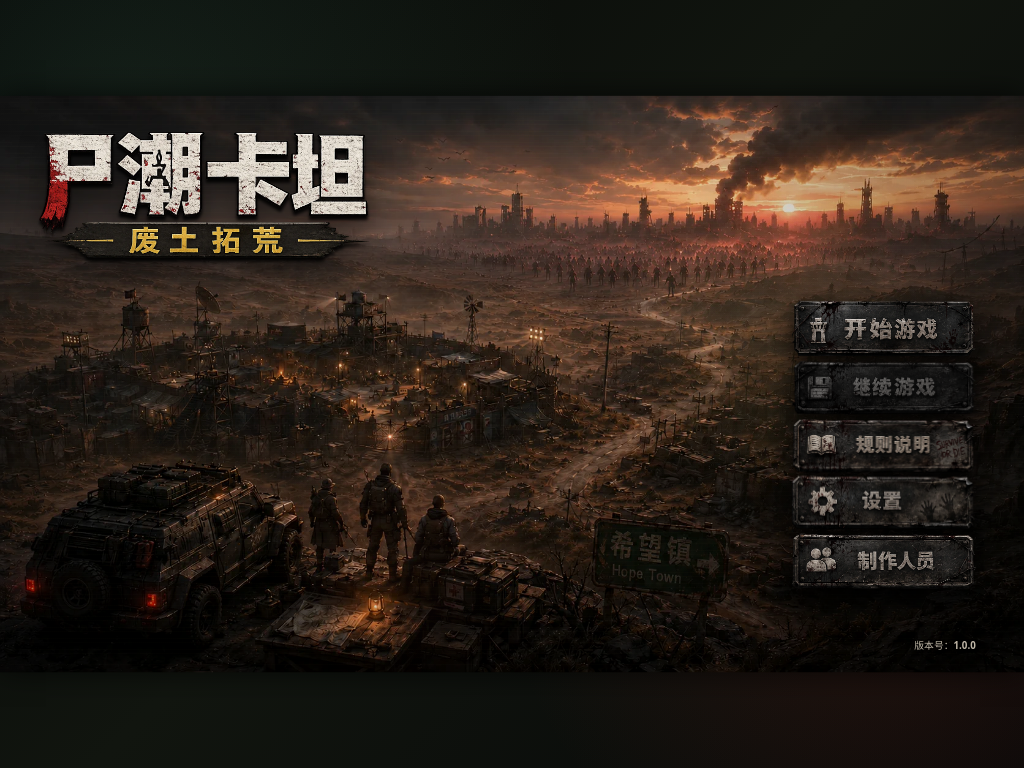
Test: StartScreen › renders settings as a dedicated audio settings console
Click the button named "设置".
click(884, 503)  # box [792,476,976,530]
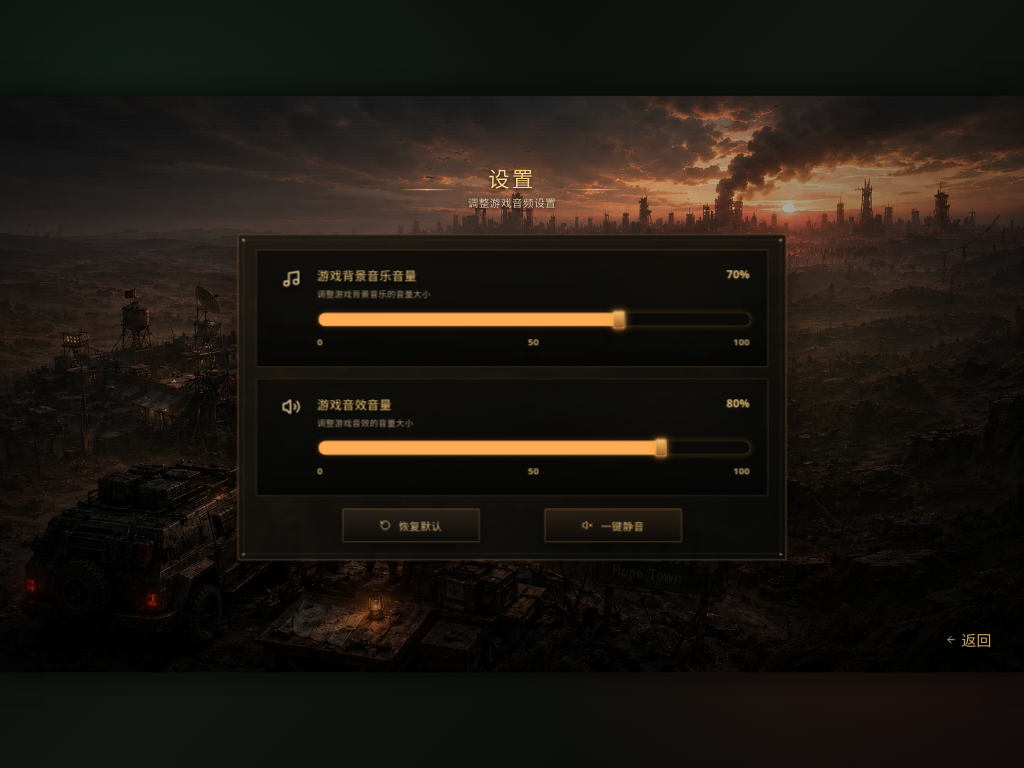
expect the heading "设置" is shown: met, box [488,168,536,190]
expect the text "调整游戏音频设置" is shown: met, box [468,195,556,210]
expect the header with class "start-settings-title" is shown: met, box [400,168,624,210]
Set the slider labelled "游戏背景音乐音量" to "45" at (514, 319), box [318,312,751,326]
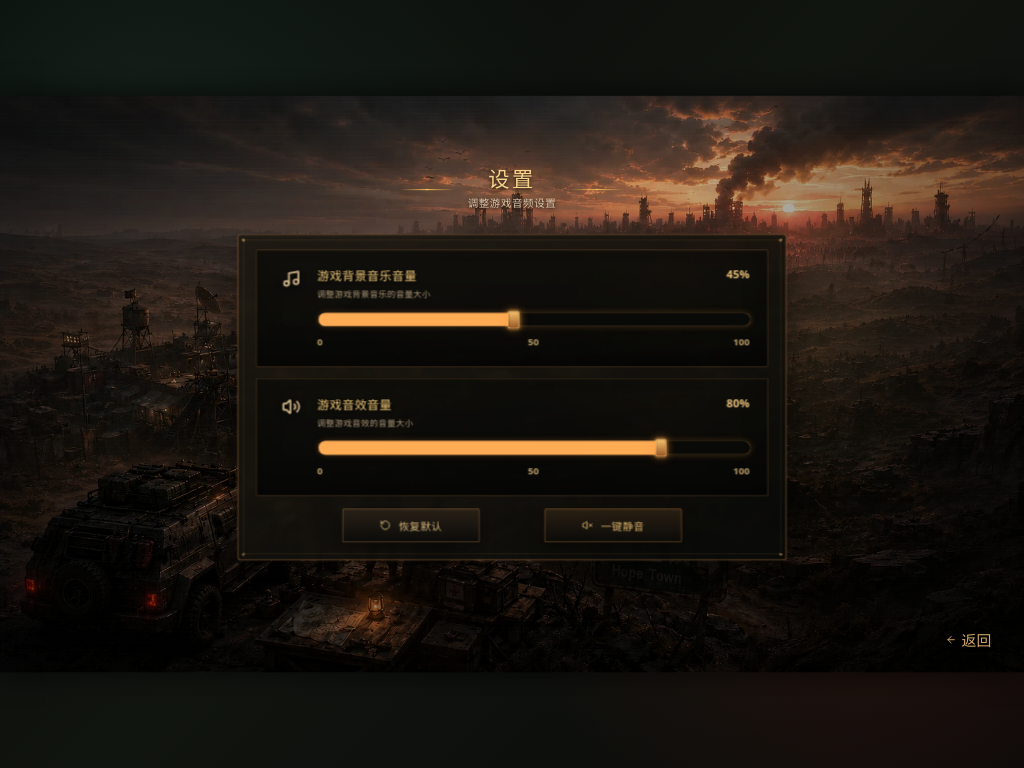
Set the slider labelled "游戏音效音量" to "35" at (472, 448), box [318,441,751,455]
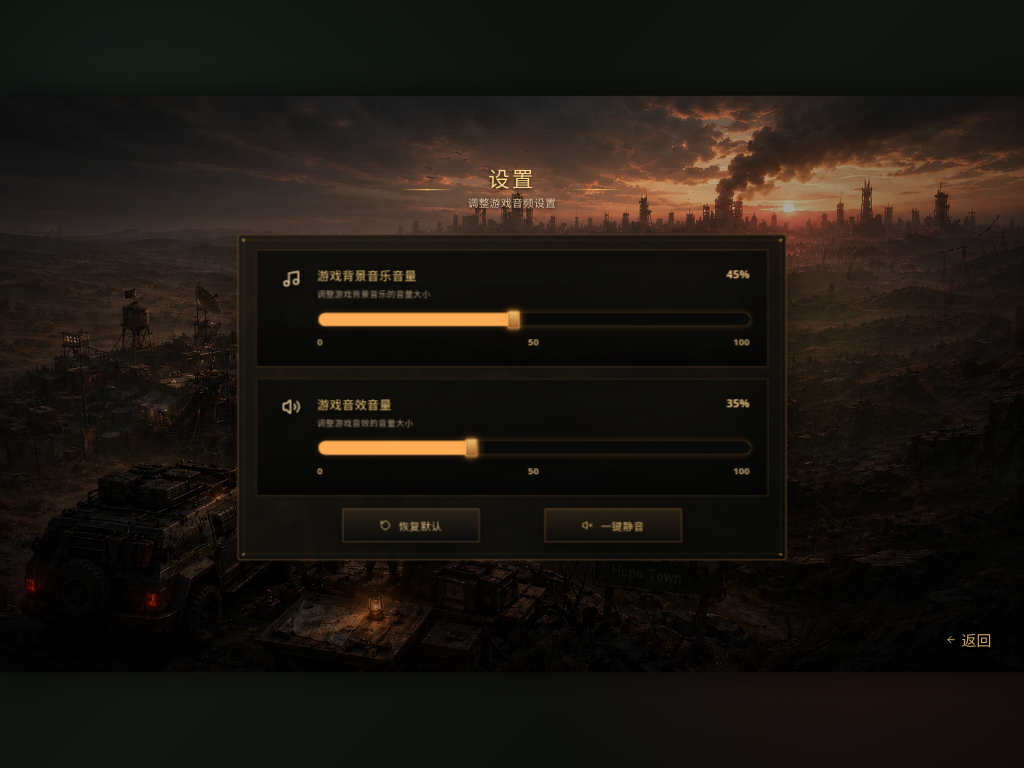
Click the button "一键静音".
click(613, 525)  # box [544,508,682,542]
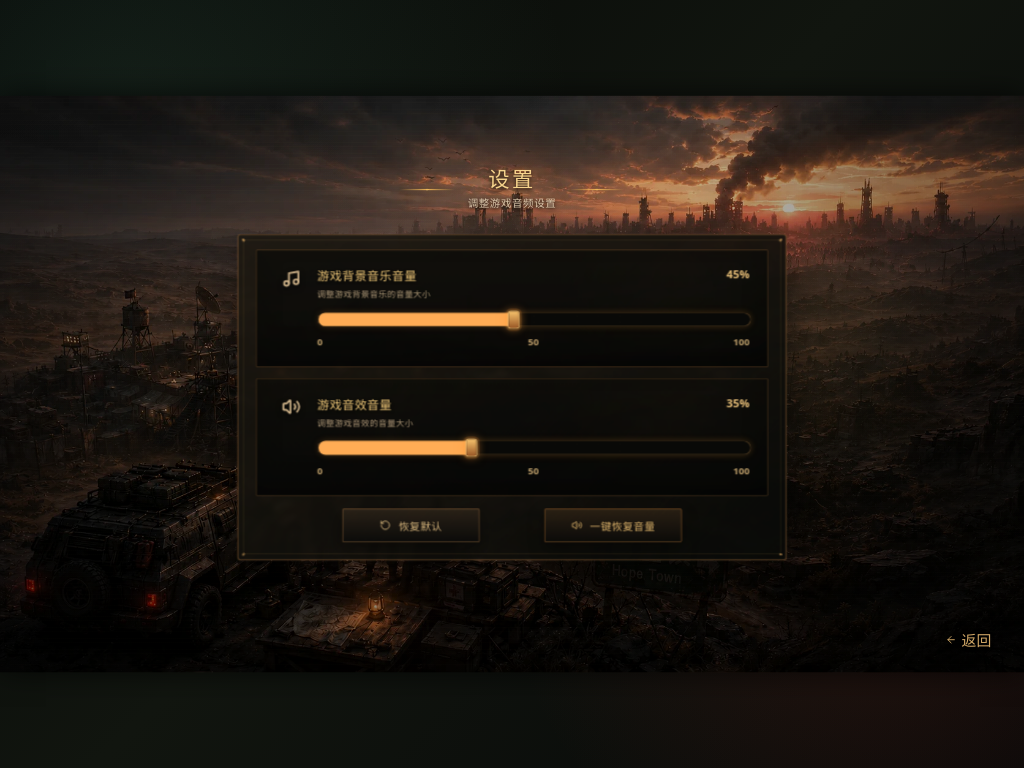
expect the heading "设置" is shown: met, box [488,168,536,190]
expect the button "一键恢复音量" is shown: met, box [544,508,682,542]
Click the button with aria-label "返回主菜单".
click(968, 640)  # box [946,629,991,650]
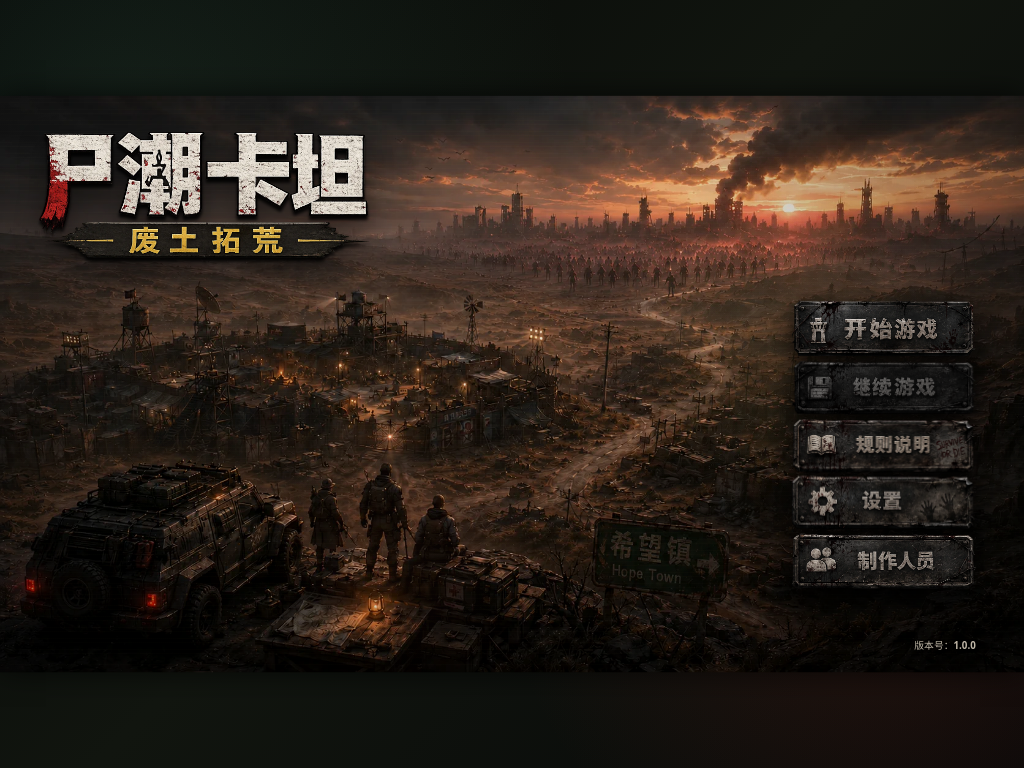
expect the button named "开始游戏" is shown: met, box [792,299,976,356]
